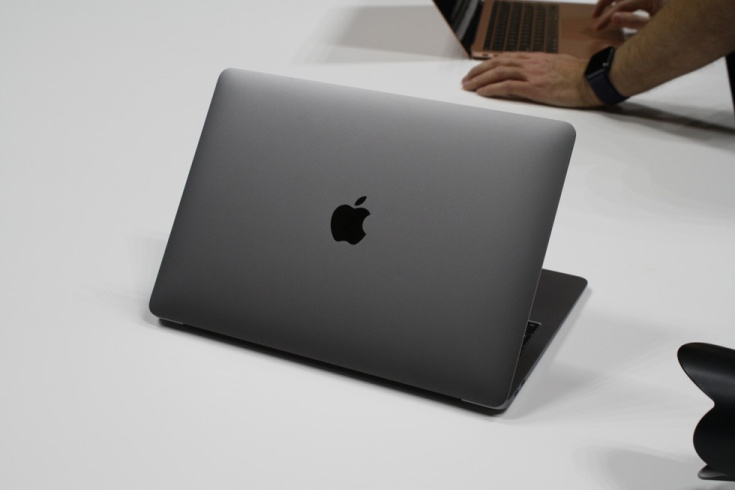apple: (317, 184, 388, 263)
